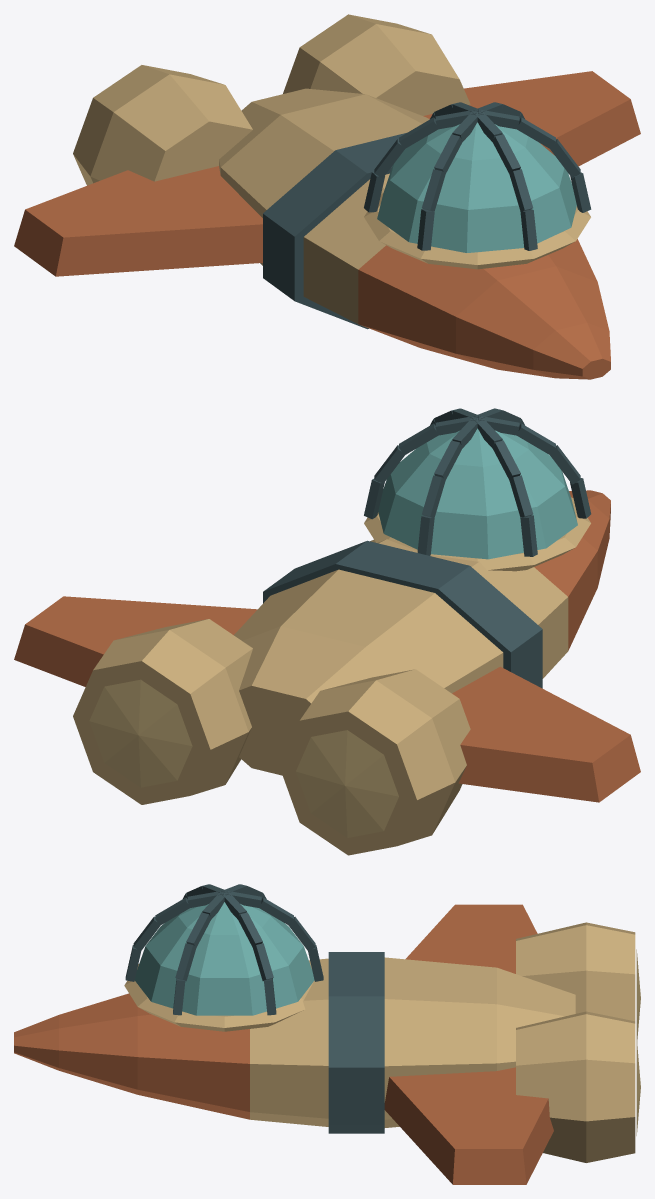
The model's file is ship.gltf.
3 views of the same model, one above another, from view 1: azimuth 30°, elevation 25°; view 2: azimuth 150°, elevation 25°; view 3: azimuth 270°, elevation 25° (orthographic). The views are drawn at different scales.
Visible parts, largest first — view 1: hull, wings, cockpit, engines; view 2: engines, hull, cockpit, wings; view 3: hull, engines, cockpit, wings.
Part boxes in pixels (box(x1,y1,x2,y2)): hull: box(219, 88, 610, 379); wings: box(14, 71, 640, 276); cockpit: box(364, 102, 591, 269); engines: box(73, 14, 470, 185); engines: box(73, 619, 470, 855); hull: box(234, 490, 610, 775); cockpit: box(364, 408, 591, 571); wings: box(14, 596, 640, 802); hull: box(14, 952, 575, 1133); engines: box(516, 922, 640, 1162); cockpit: box(124, 884, 323, 1031); wings: box(384, 904, 553, 1184).
Bounding box in the file's own units: 3.4 × 1.41 × 3.57.
